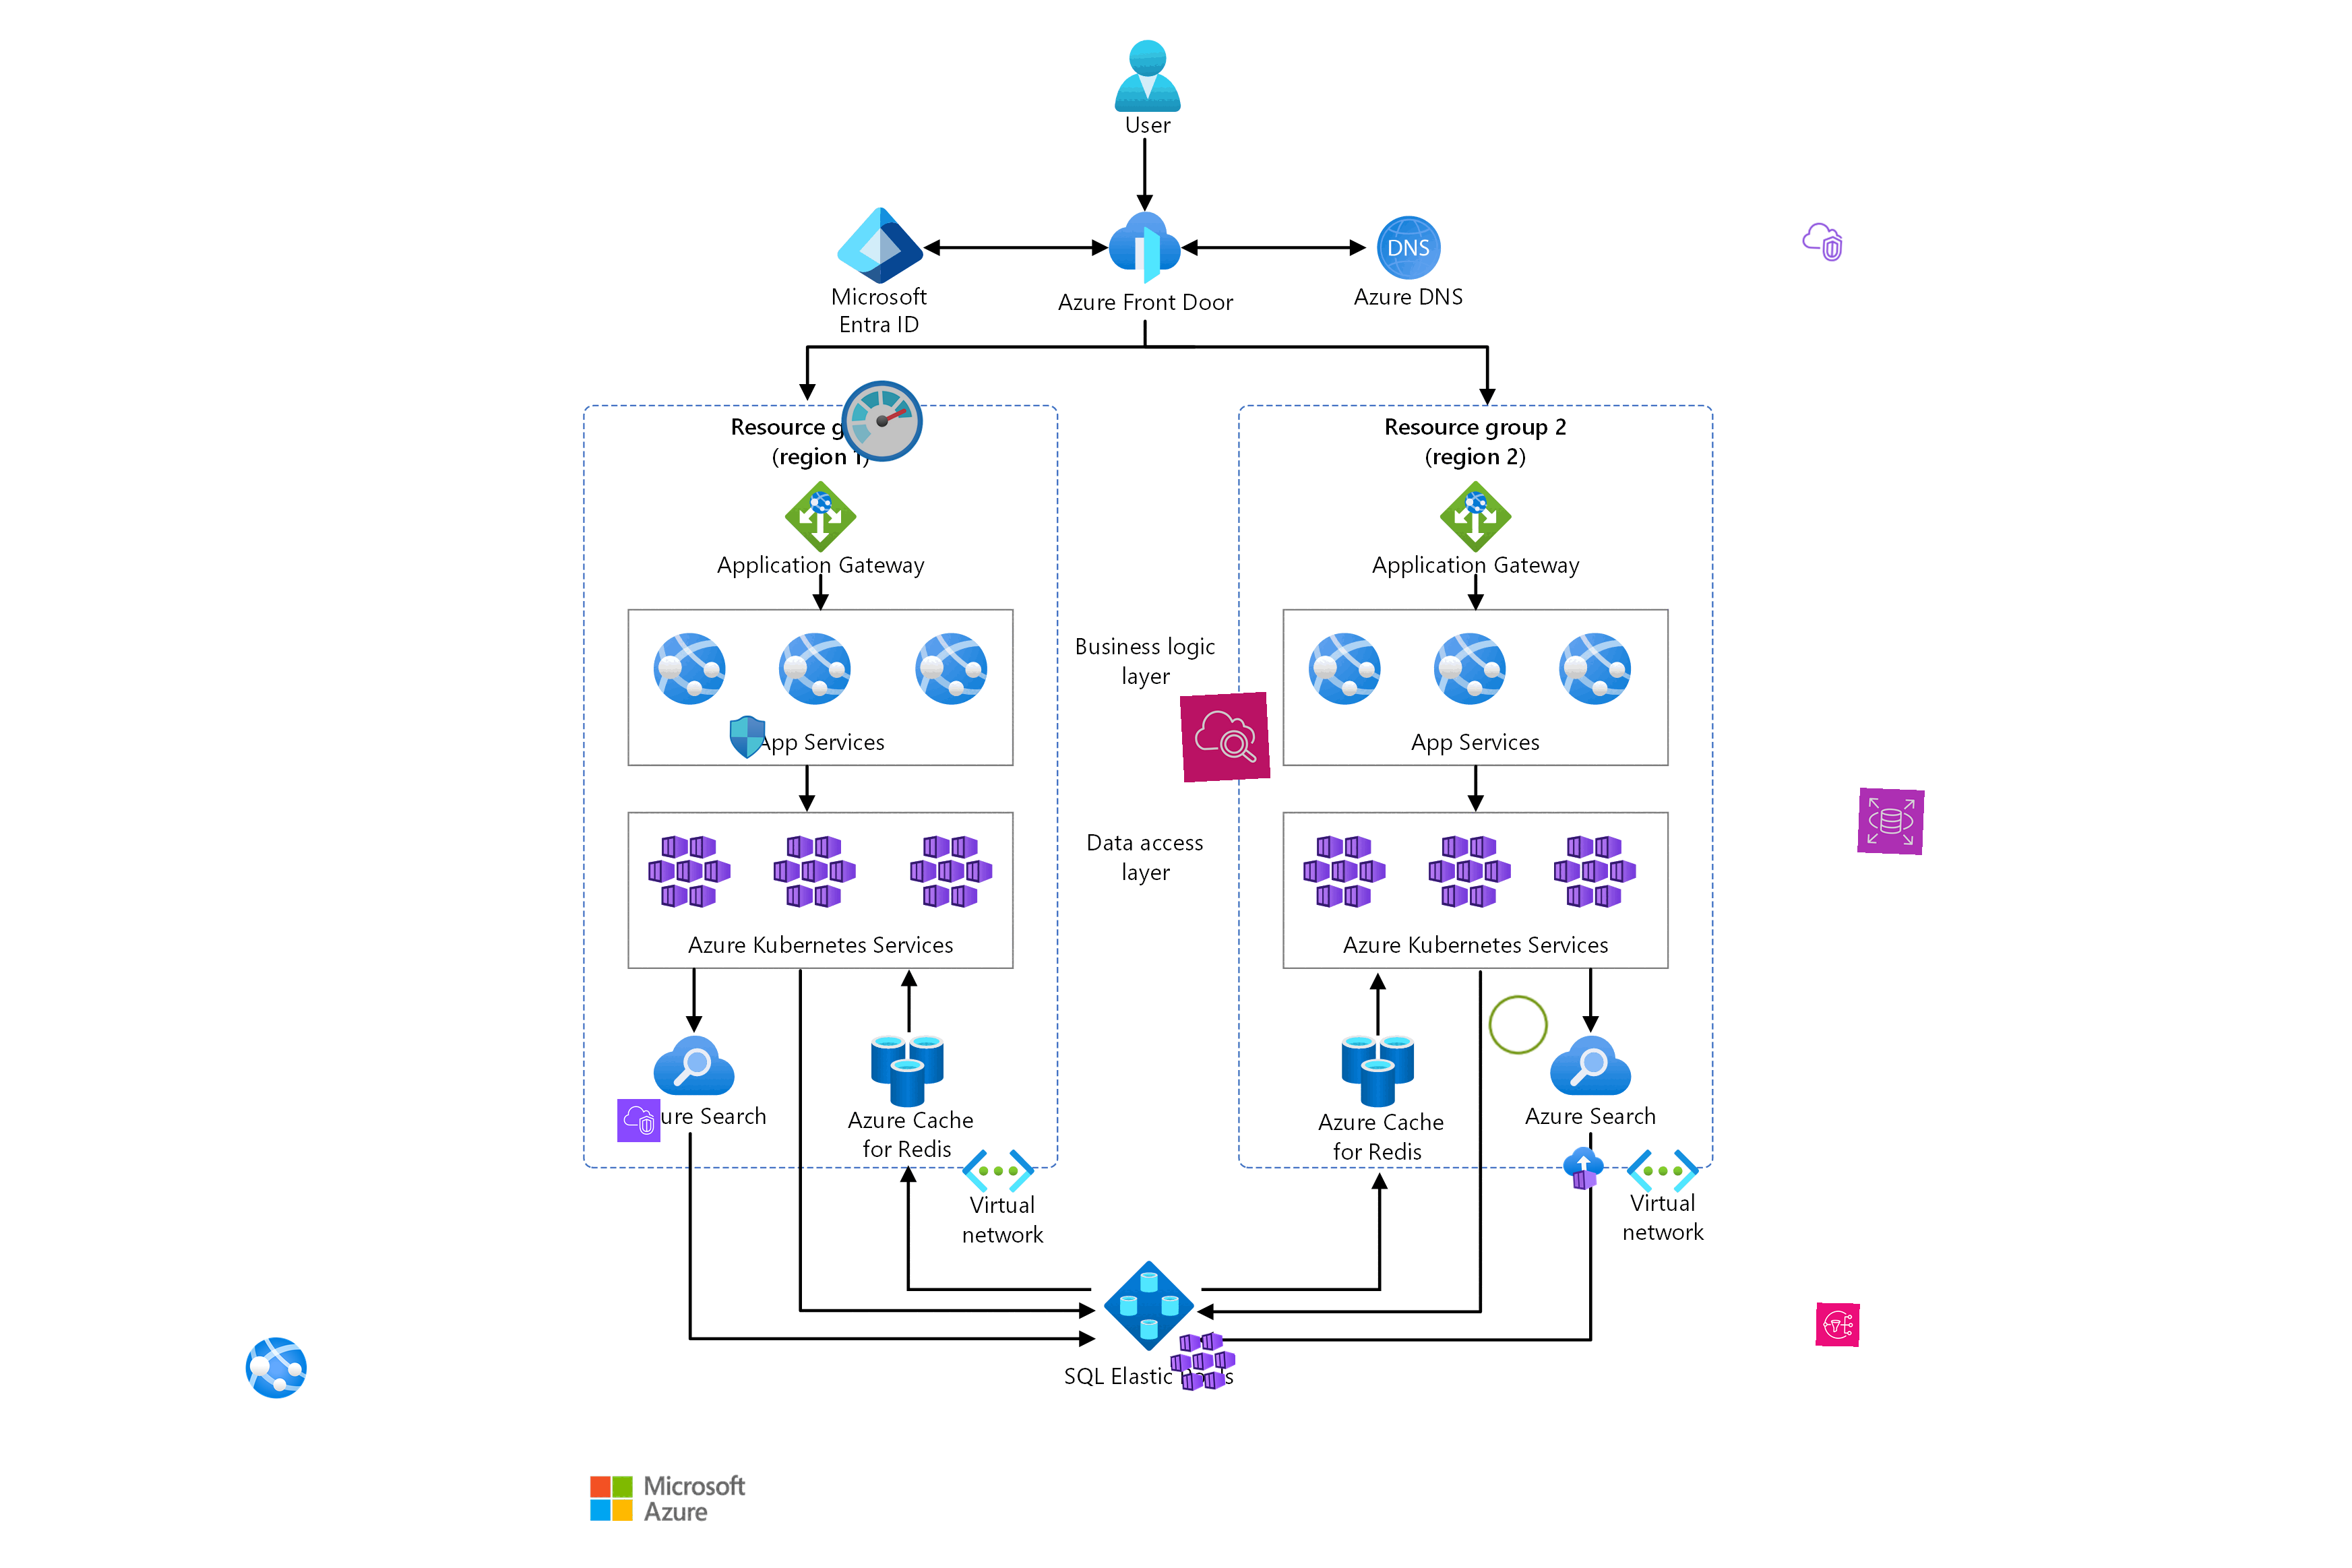aws_amazon_cloudwatch: (1179, 691, 1270, 782)
aws_amazon_rds: (1857, 788, 1925, 856)
aws_amazon_simple_notification_service: (1815, 1302, 1860, 1347)
aws_amazon_virtual_private_cloud: (616, 1099, 661, 1143)
aws_simple_storage_service_object: (1484, 991, 1554, 1060)
aws_vpc_virtual_private_cloud_vpc: (1799, 219, 1844, 264)
azure_app_services: (243, 1334, 310, 1402)
azure_container_instances: (1561, 1146, 1606, 1192)
azure_kubernetes_services: (1167, 1327, 1237, 1396)
azure_monitor: (836, 375, 929, 467)
azure_network_security_groups: (724, 716, 770, 759)
